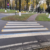zebra: (1, 22, 50, 38)
